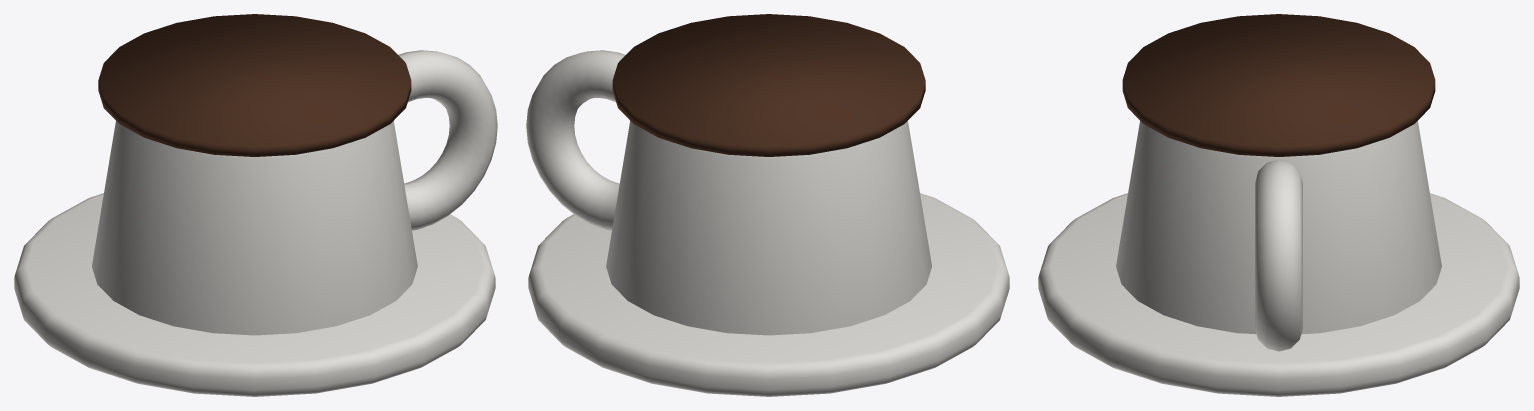
The model's file is tasse.glb.
The picture shows the model from 3 angles, left to right: view 1: azimuth 30°, elevation 25°; view 2: azimuth 150°, elevation 25°; view 3: azimuth 270°, elevation 25°; orthographic projection.
Parts seen in each view (by area): view 1: corps, soucoupe, cafe, anse; view 2: corps, soucoupe, cafe, anse; view 3: corps, soucoupe, cafe, anse.
Boxes of the visible parts, x1=… form: corps: x1=92, y1=121, x2=417, y2=335; soucoupe: x1=14, y1=193, x2=495, y2=396; cafe: x1=98, y1=14, x2=411, y2=156; anse: x1=398, y1=50, x2=497, y2=230; corps: x1=606, y1=121, x2=931, y2=335; soucoupe: x1=528, y1=193, x2=1009, y2=396; cafe: x1=612, y1=14, x2=925, y2=156; anse: x1=526, y1=50, x2=625, y2=230; corps: x1=1116, y1=121, x2=1441, y2=334; soucoupe: x1=1038, y1=193, x2=1519, y2=396; cafe: x1=1122, y1=14, x2=1435, y2=156; anse: x1=1255, y1=159, x2=1302, y2=351.
Size of the model in its own units: 0.215 by 0.1005 by 0.2.
